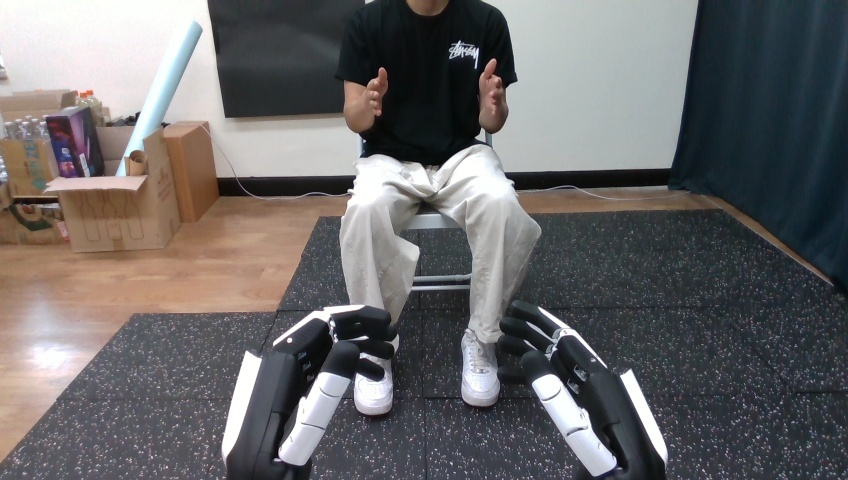left robot arm: (222, 305, 395, 479), (499, 300, 667, 478)
left robot hand: (222, 305, 395, 479), (499, 300, 667, 478)
right robot arm: (222, 305, 395, 479), (499, 300, 667, 478)
right robot hand: (222, 305, 395, 479)
